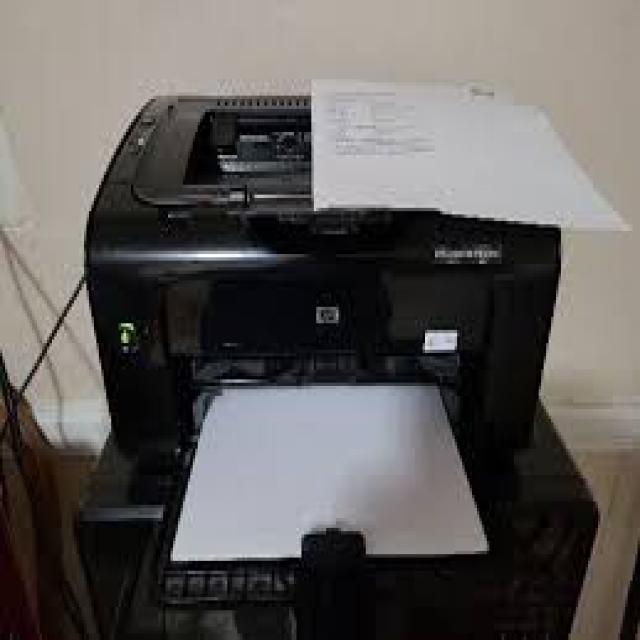printer: (77, 79, 610, 640)
